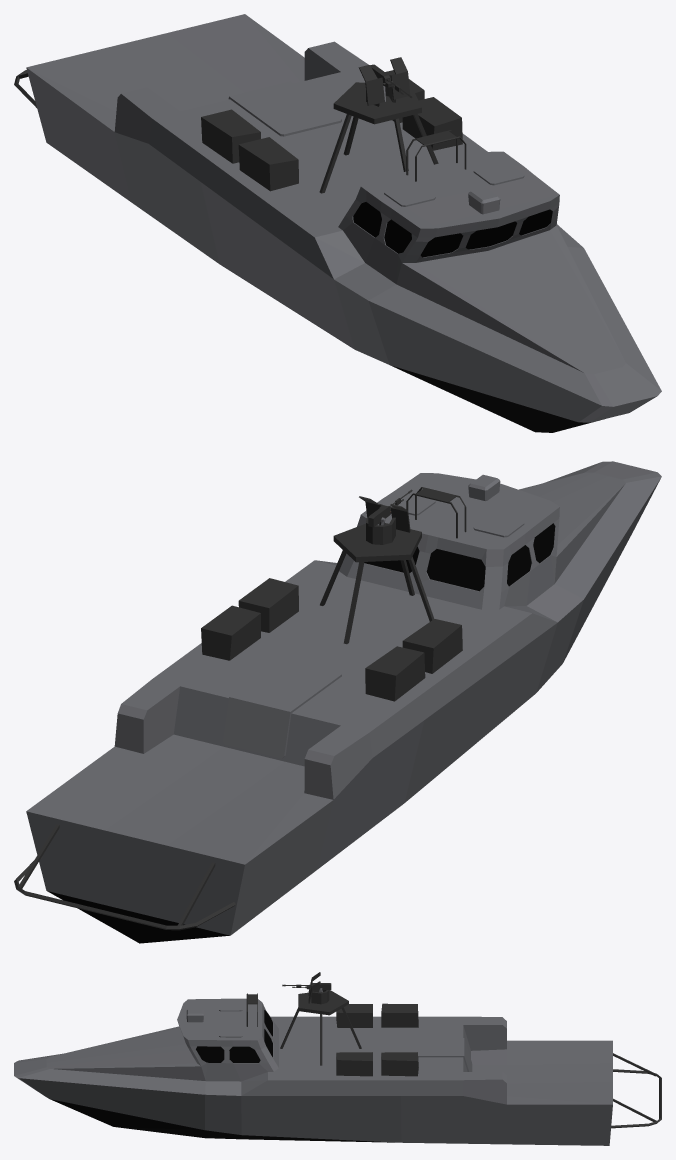
3 views of the same model, one above another, from view 1: azimuth 30°, elevation 25°; view 2: azimuth 150°, elevation 25°; view 3: azimuth 270°, elevation 25° (orthographic). The views are drawn at different scales.
Visible parts, largest first — view 1: Cube.017, Cube.030, Cylinder.004, Cube.037, Cube.041, Cube.036; view 2: Cube.017, Cube.030, Cylinder.004, Cube.037, Cube.036; view 3: Cube.017, Cube.030, Cylinder.004, Cube.037, Cube.036, Cube.041.
Boxes of the visible parts, <box> form: Cube.017: <box>14,14,661,432</box>; Cube.030: <box>228,81,341,136</box>; Cylinder.004: <box>319,82,438,193</box>; Cube.037: <box>358,57,412,105</box>; Cube.041: <box>473,162,524,185</box>; Cube.036: <box>384,184,435,206</box>; Cube.017: <box>14,461,661,943</box>; Cube.030: <box>223,659,341,758</box>; Cylinder.004: <box>320,523,434,644</box>; Cube.037: <box>359,489,412,532</box>; Cube.036: <box>473,514,524,537</box>; Cube.017: <box>14,993,661,1145</box>; Cube.030: <box>401,1038,472,1071</box>; Cylinder.004: <box>280,990,361,1065</box>; Cube.037: <box>282,972,331,1003</box>; Cube.036: <box>219,1000,242,1011</box>; Cube.041: <box>219,1026,242,1037</box>.
Size of the model in its own units: 797 by 906 by 3337.
